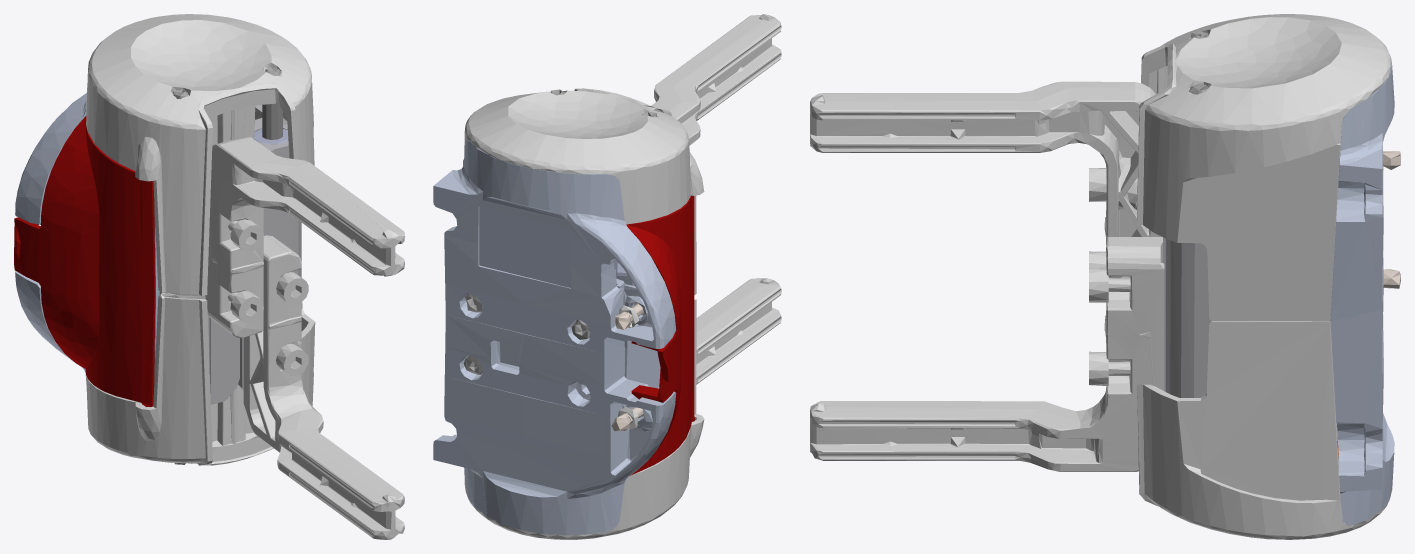
File: electric_gripper_w_fingers.DAE
3 renders of one model, left to right at view 1: azimuth 30°, elevation 25°; view 2: azimuth 150°, elevation 25°; view 3: azimuth 270°, elevation 25°, orthographic. The views are drawn at different scales.
Parts seen in each view (by area): view 1: node; view 2: node; view 3: node.
Part boxes in pixels (<box>): node: <box>14,14,404,539</box>; node: <box>433,14,781,539</box>; node: <box>810,14,1400,539</box>.
Size of the model in its own units: 0.0659 by 0.1055 by 0.1218.
